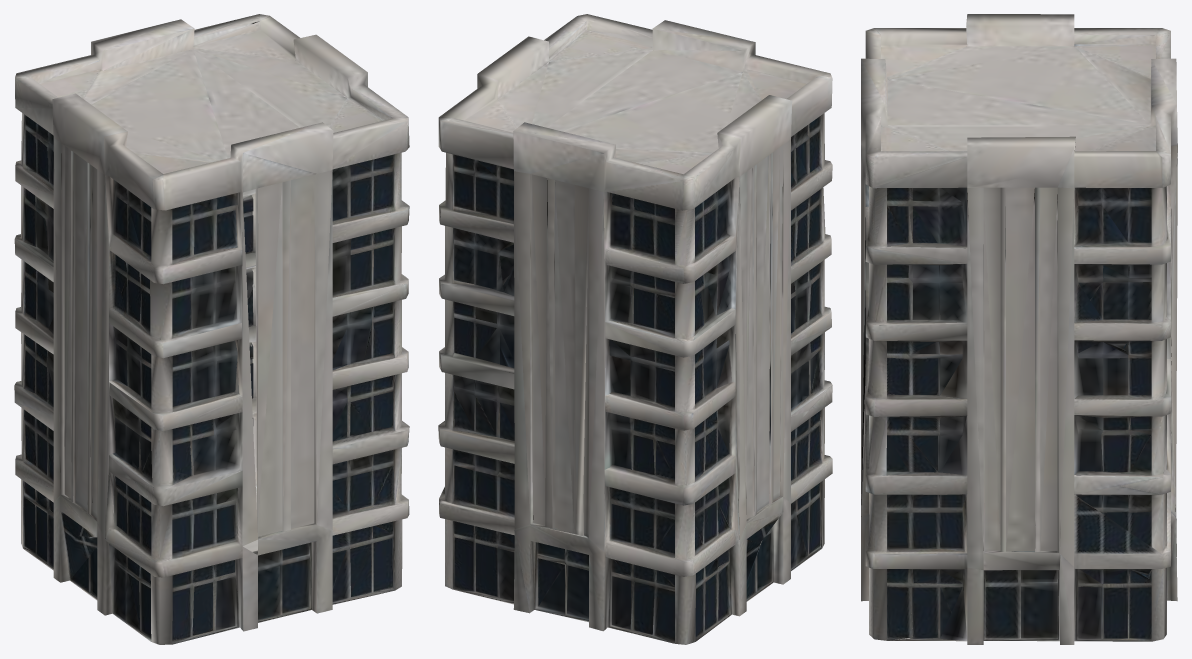
Rendered from 14-office-6-floors.glb.
3 renders of one model, left to right at view 1: azimuth 30°, elevation 25°; view 2: azimuth 150°, elevation 25°; view 3: azimuth 270°, elevation 25°, orthographic. The views are drawn at different scales.
Visible parts, largest first — view 1: geometry_0; view 2: geometry_0; view 3: geometry_0.
Boxes of the visible parts, bbox=[...] form: geometry_0: bbox=[14, 14, 409, 644]; geometry_0: bbox=[438, 14, 832, 644]; geometry_0: bbox=[861, 14, 1177, 644].
Size of the model in its own units: 0.5488 by 0.9521 by 0.5494.
1 material, 1 textured.
